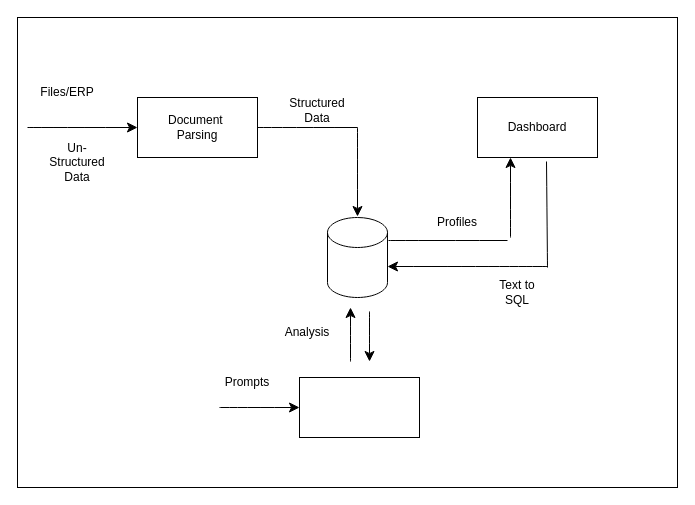
The diagram is 695 pixels wide and 505 high, and some of its shapes have lost their labels. Each missing label, with the box of its shape:
Database: (326, 216, 388, 298)
Tax Agent: (298, 376, 420, 438)
